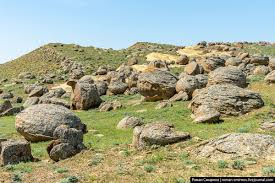stone: (15, 102, 86, 137), (131, 117, 191, 150), (137, 65, 181, 100), (70, 72, 101, 110), (1, 137, 38, 167), (206, 65, 249, 89), (174, 70, 202, 99), (46, 140, 79, 160), (115, 113, 144, 132), (16, 69, 38, 81)
